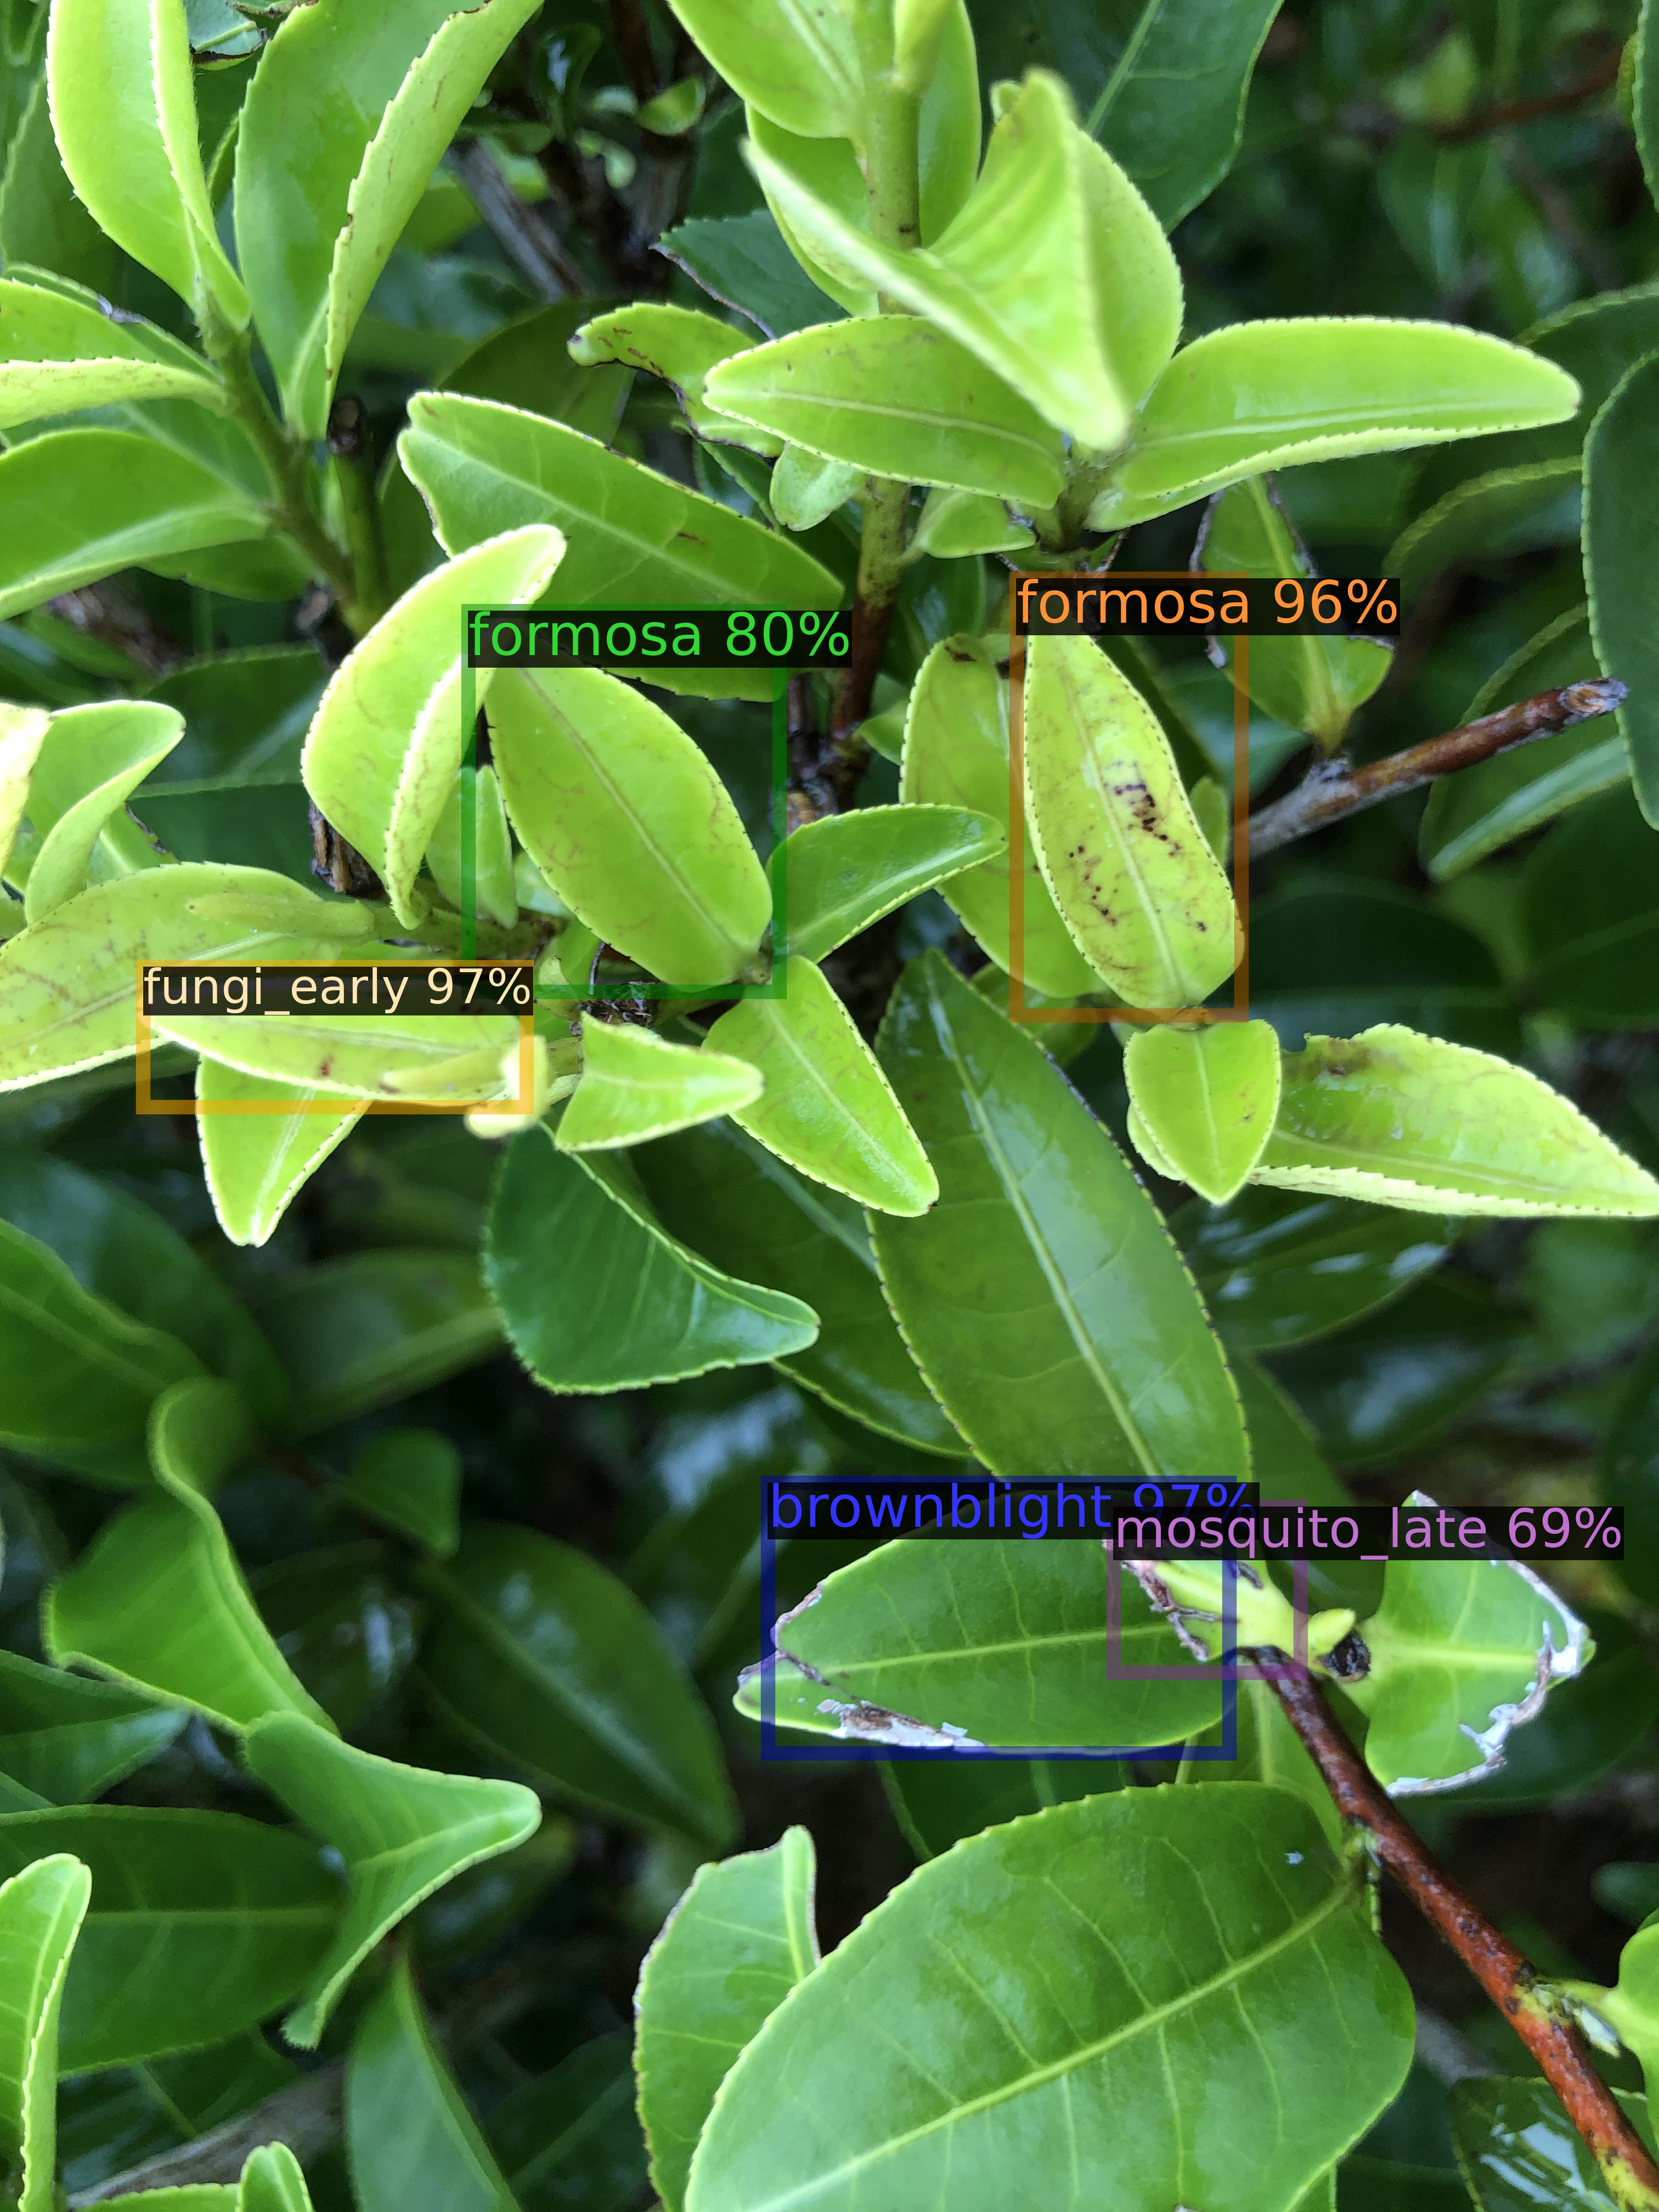brownblight: (769, 1482, 1229, 1754)
formosa: (469, 611, 779, 991), (1016, 578, 1241, 1015)
fungi_early: (143, 967, 526, 1108)
mosquito_late: (1114, 1507, 1300, 1672)
